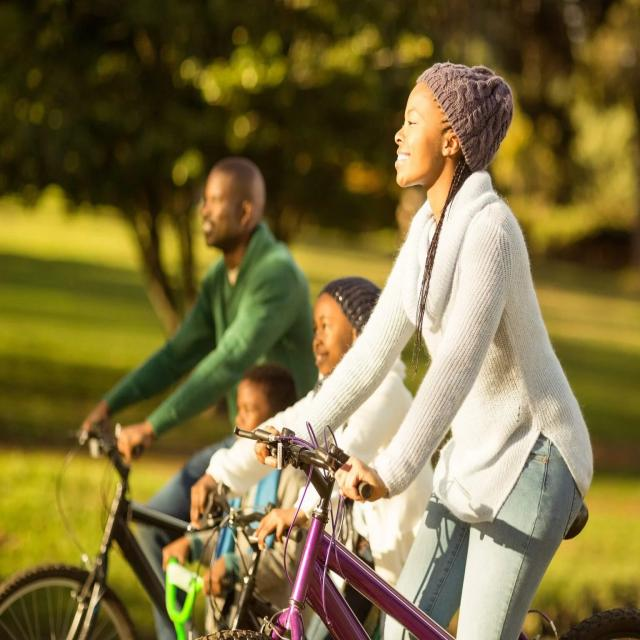illegal_helmet: (390, 56, 517, 192)
